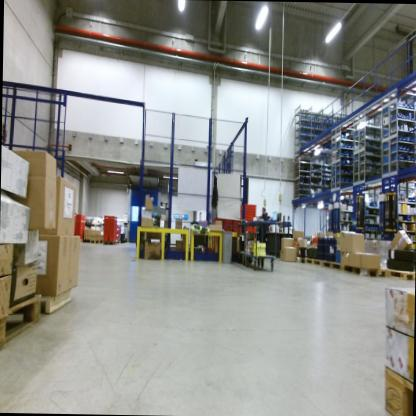pallet: (0, 289, 47, 354), (37, 283, 84, 328), (380, 363, 413, 416), (340, 258, 391, 285), (384, 263, 415, 283), (318, 260, 346, 272), (306, 253, 323, 268), (291, 253, 306, 264), (86, 237, 101, 244), (102, 240, 116, 245), (115, 237, 120, 245), (78, 238, 84, 243)
small_load_carrier: (244, 229, 257, 240), (232, 222, 241, 235), (221, 224, 234, 232), (311, 236, 321, 245), (108, 234, 115, 241), (102, 234, 108, 241)
